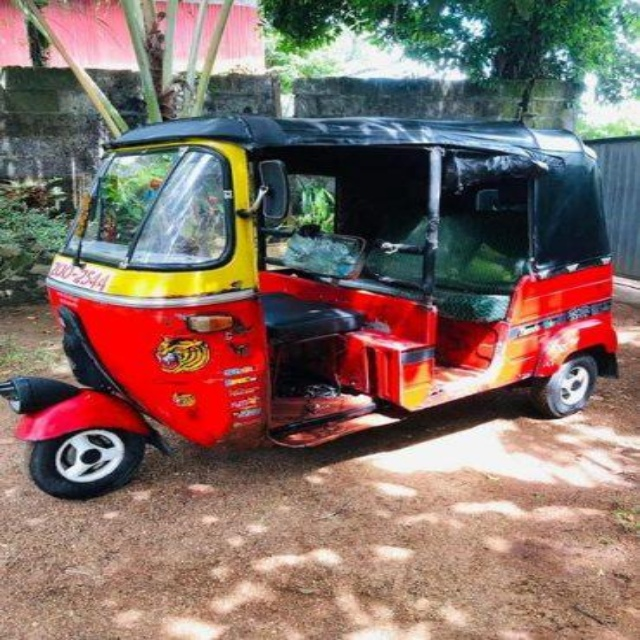Motorcycle: (2, 114, 619, 501)
